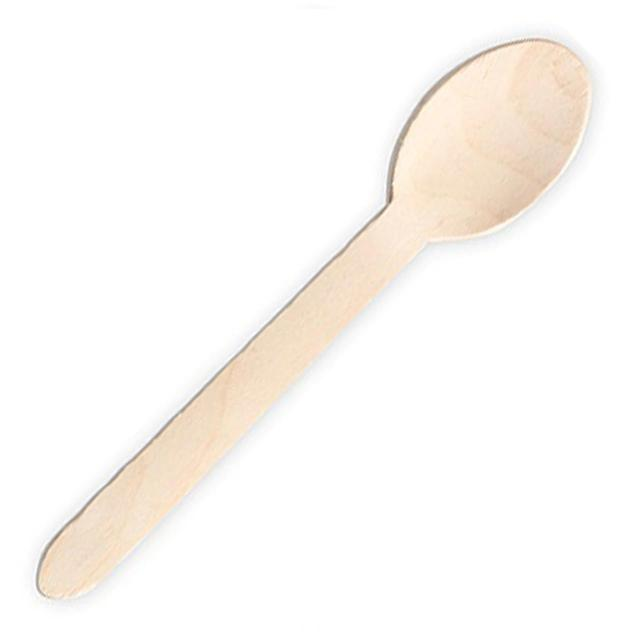spoon: (9, 32, 597, 627)
